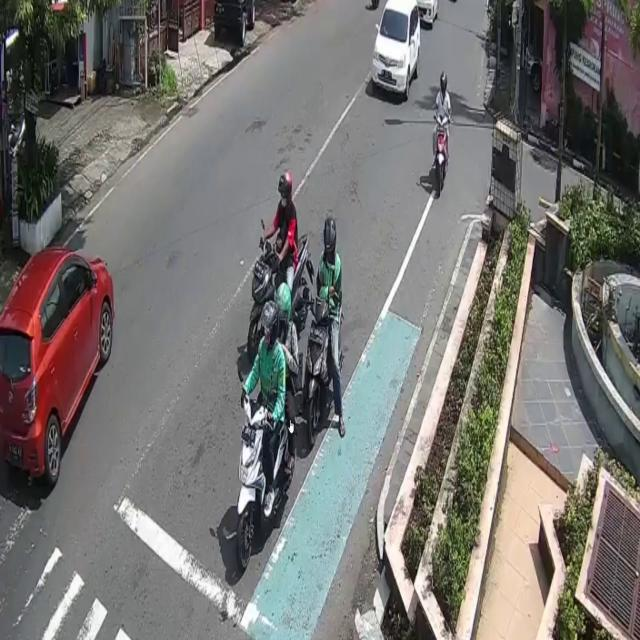bus: (237, 396, 290, 568), (246, 234, 314, 365), (305, 298, 333, 447), (435, 116, 447, 198)
motorcycle: (0, 249, 113, 487), (372, 0, 418, 101)
